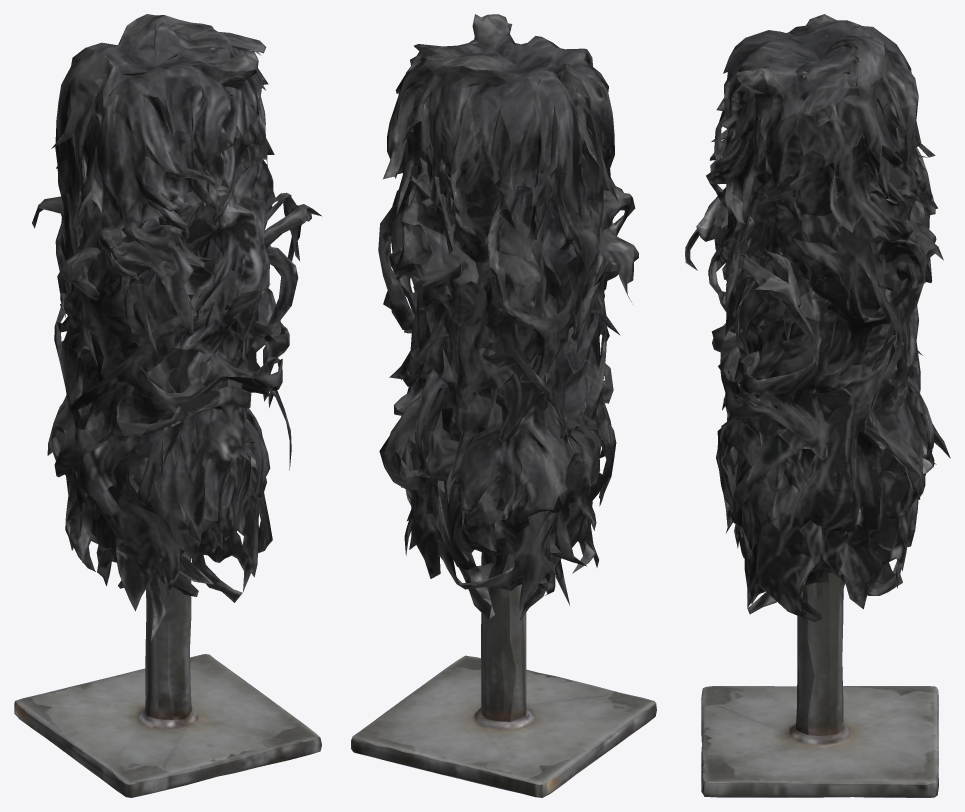
Rendered from charge_hair.glb.
The picture shows the model from 3 angles, left to right: view 1: azimuth 30°, elevation 25°; view 2: azimuth 150°, elevation 25°; view 3: azimuth 270°, elevation 25°; orthographic projection. The views are drawn at different scales.
Parts seen in each view (by area): view 1: geometry_0; view 2: geometry_0; view 3: geometry_0.
Boxes of the visible parts, left/top/right/bottom form: geometry_0: left=14, top=14, right=321, bottom=797; geometry_0: left=351, top=14, right=656, bottom=797; geometry_0: left=685, top=14, right=950, bottom=797.
Size of the model in its own units: 0.2366 by 0.65 by 0.2194.
1 material, 1 textured.
